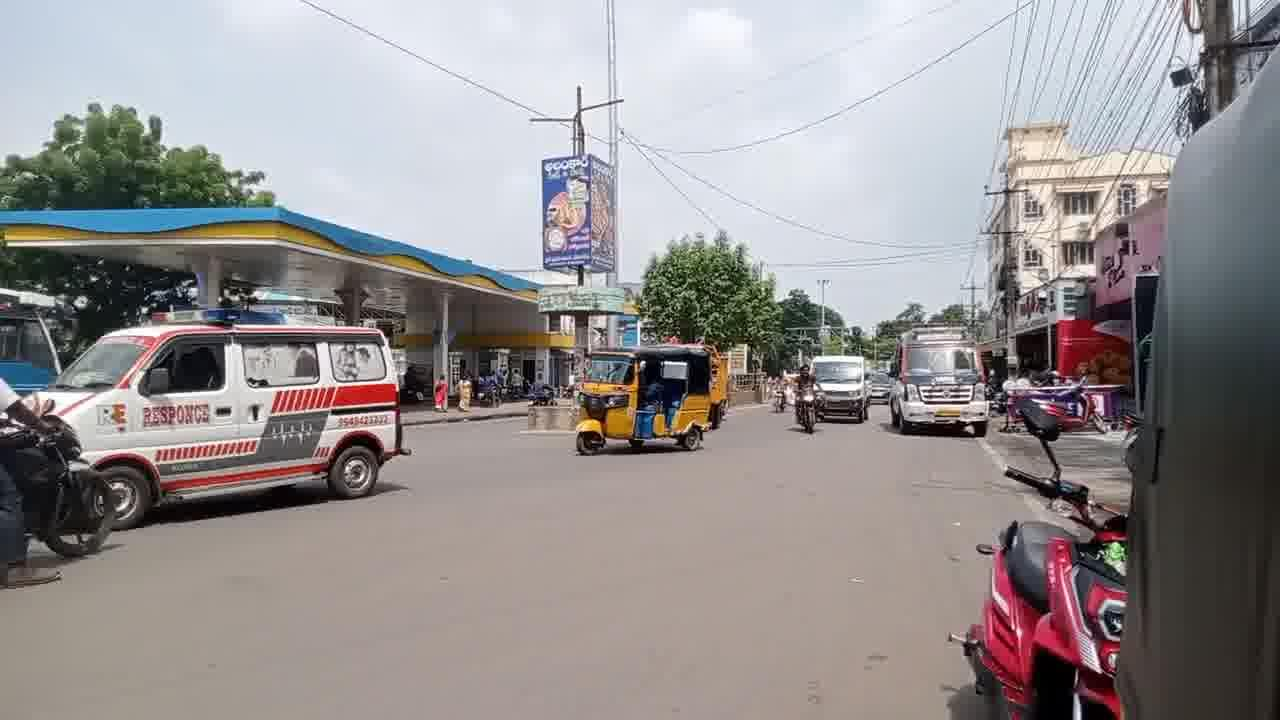AMBULANCE: (54, 294, 405, 482), (890, 317, 994, 433)
